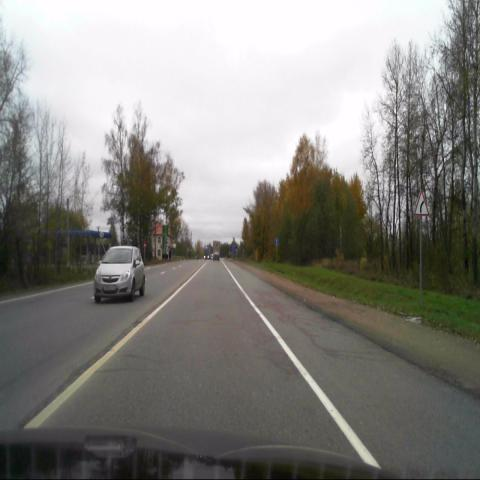1_11: (414, 190, 429, 217)
